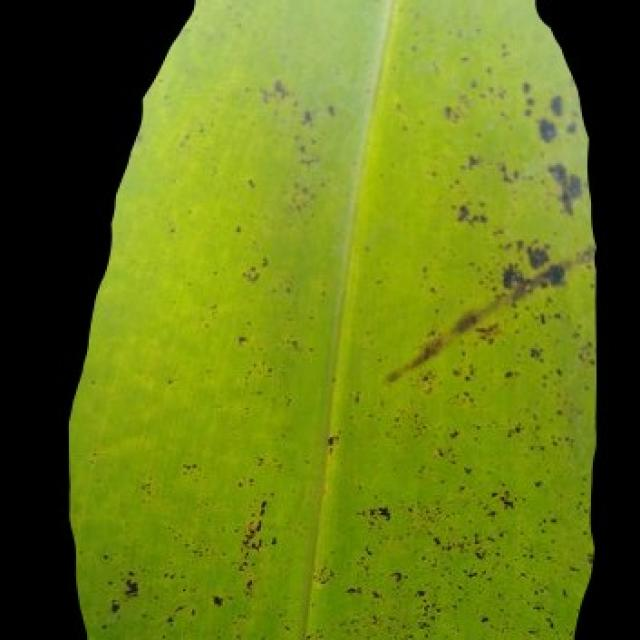mite: (100, 566, 234, 629), (535, 114, 557, 141), (207, 589, 228, 611), (548, 92, 564, 116), (121, 577, 140, 596), (107, 596, 121, 613), (210, 593, 225, 607)
spots: (65, 0, 598, 638)
